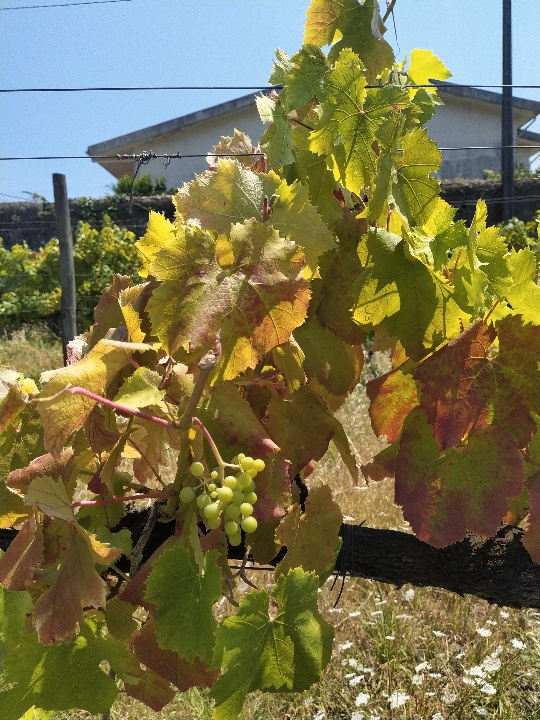grape: (179, 449, 268, 547)
